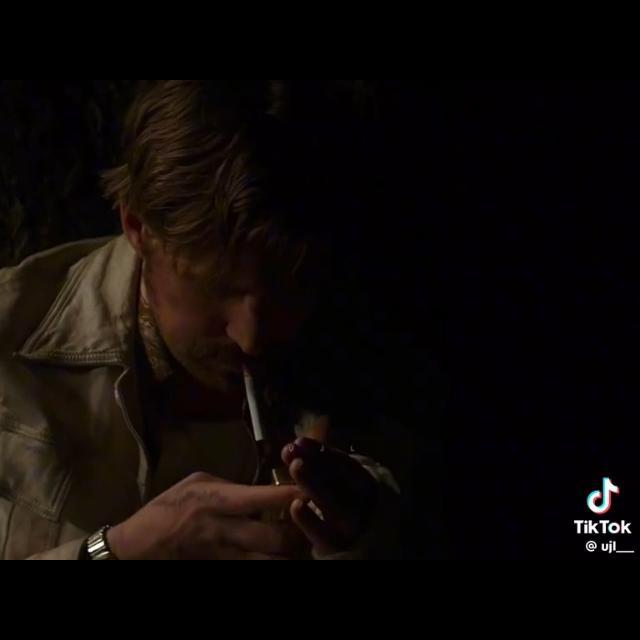rokok: (226, 358, 280, 454)
